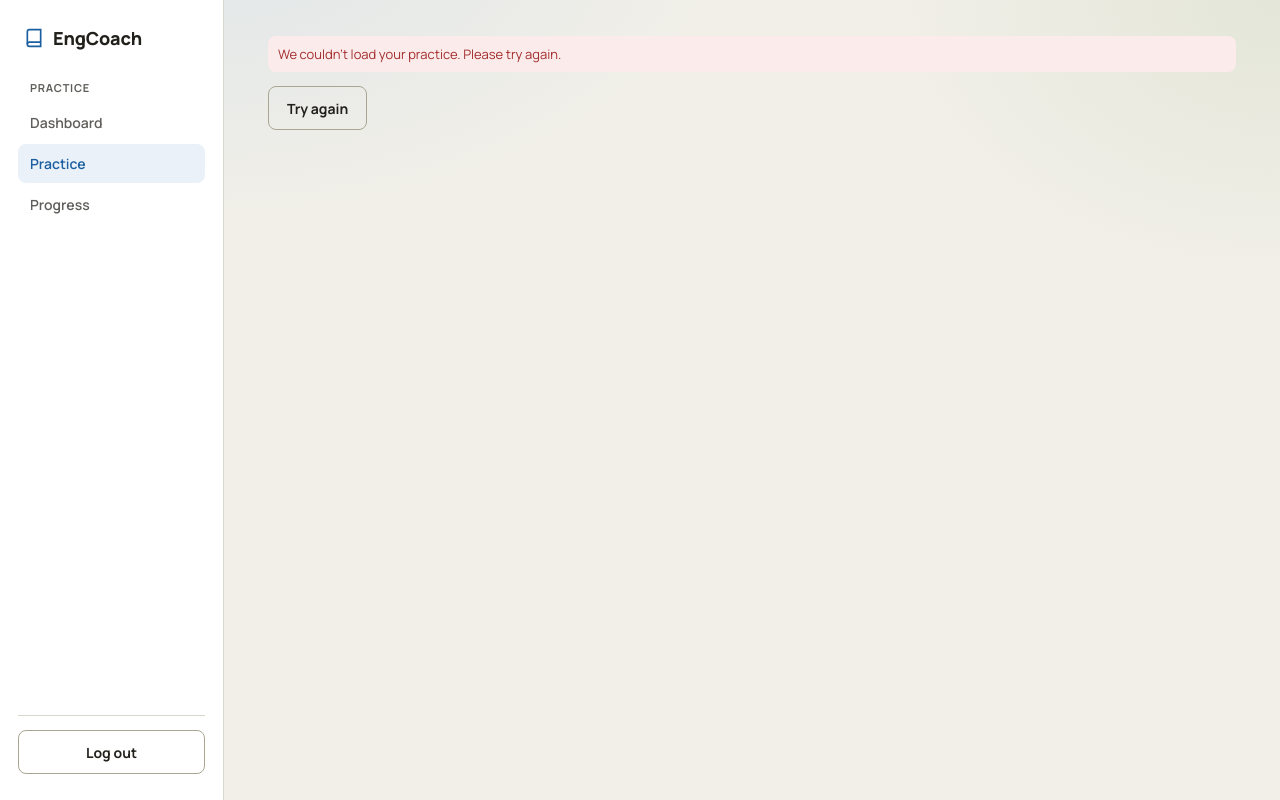
it: Test screen (S7b) › load failure: alert and Try again
Expected: the message shows "couldn't load your practice", 278,45 -> 561,63
Click the button "Try again" at (318, 108), box 268,86 -> 367,130
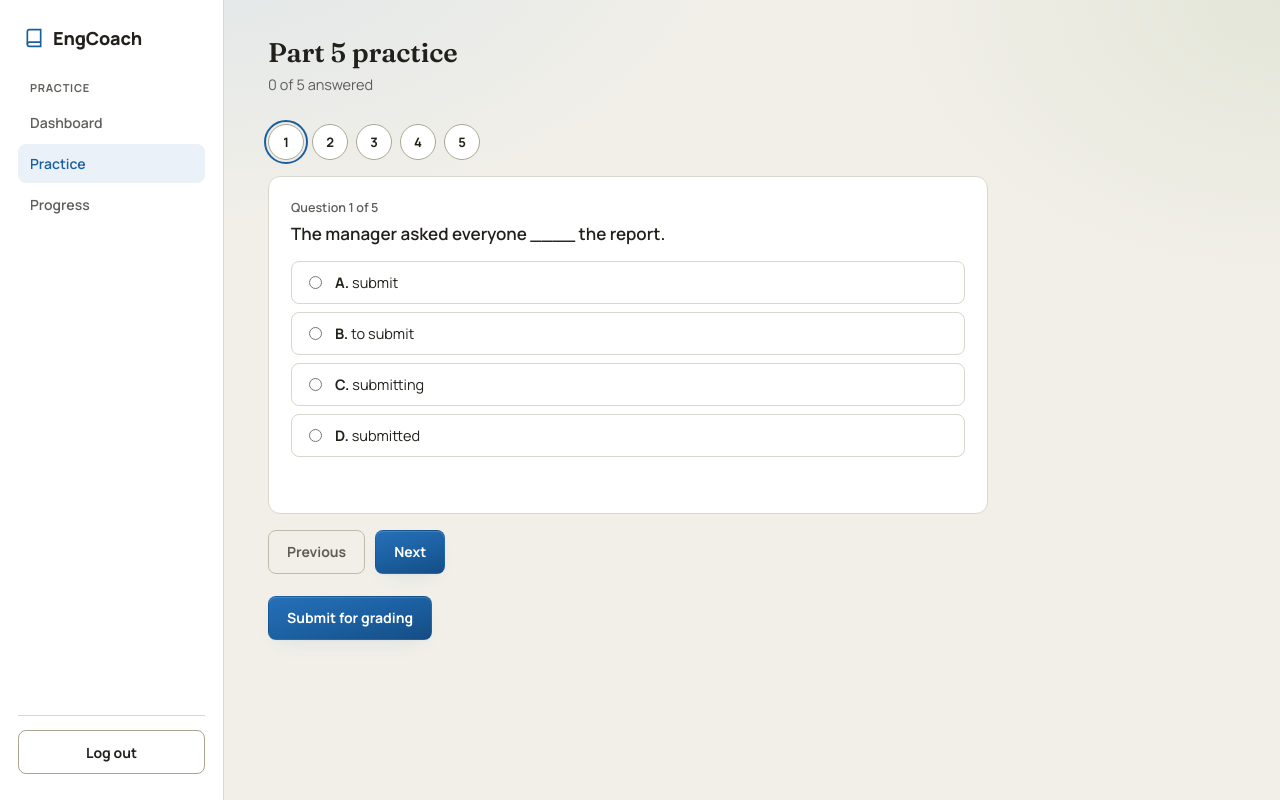
Expected: the text "Question 1 of 5" is shown, 291,199 -> 378,216
